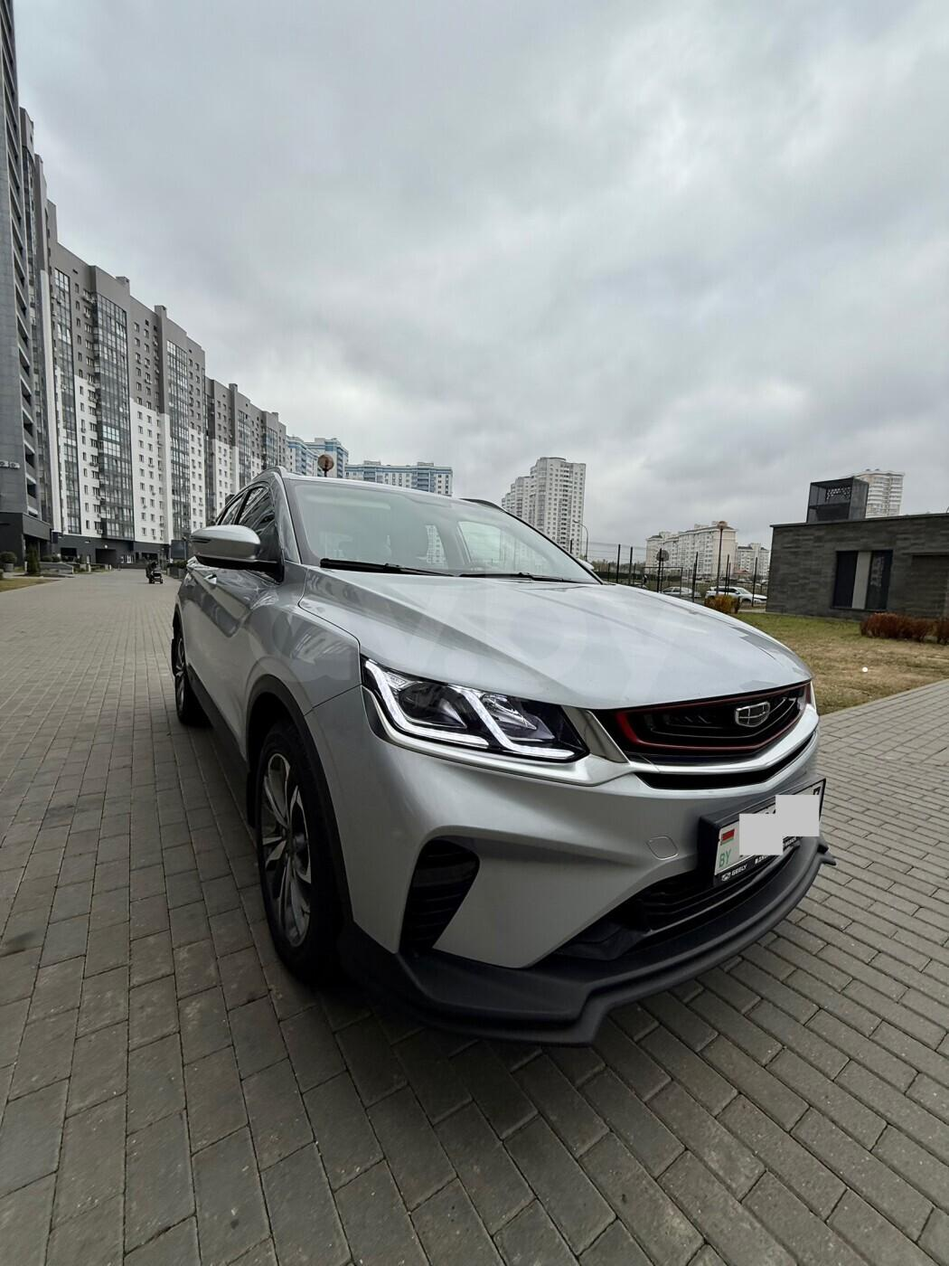Coolray_2019-2023: (163, 465, 837, 1042)
